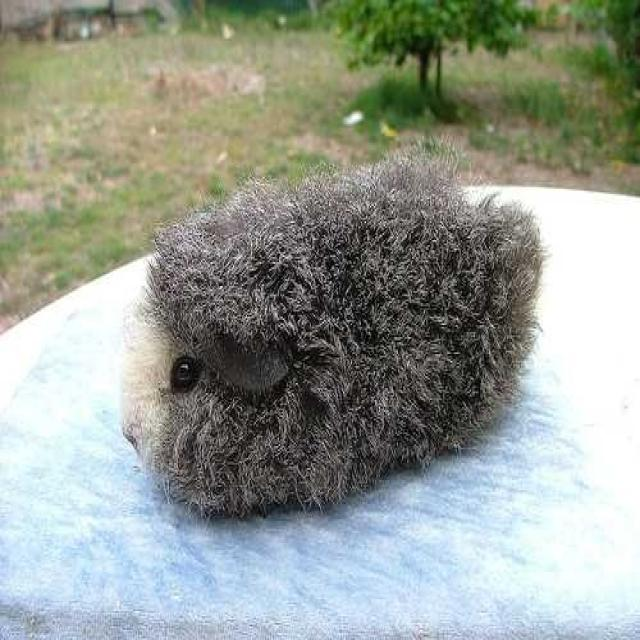guinea pig: (124, 177, 539, 521)
